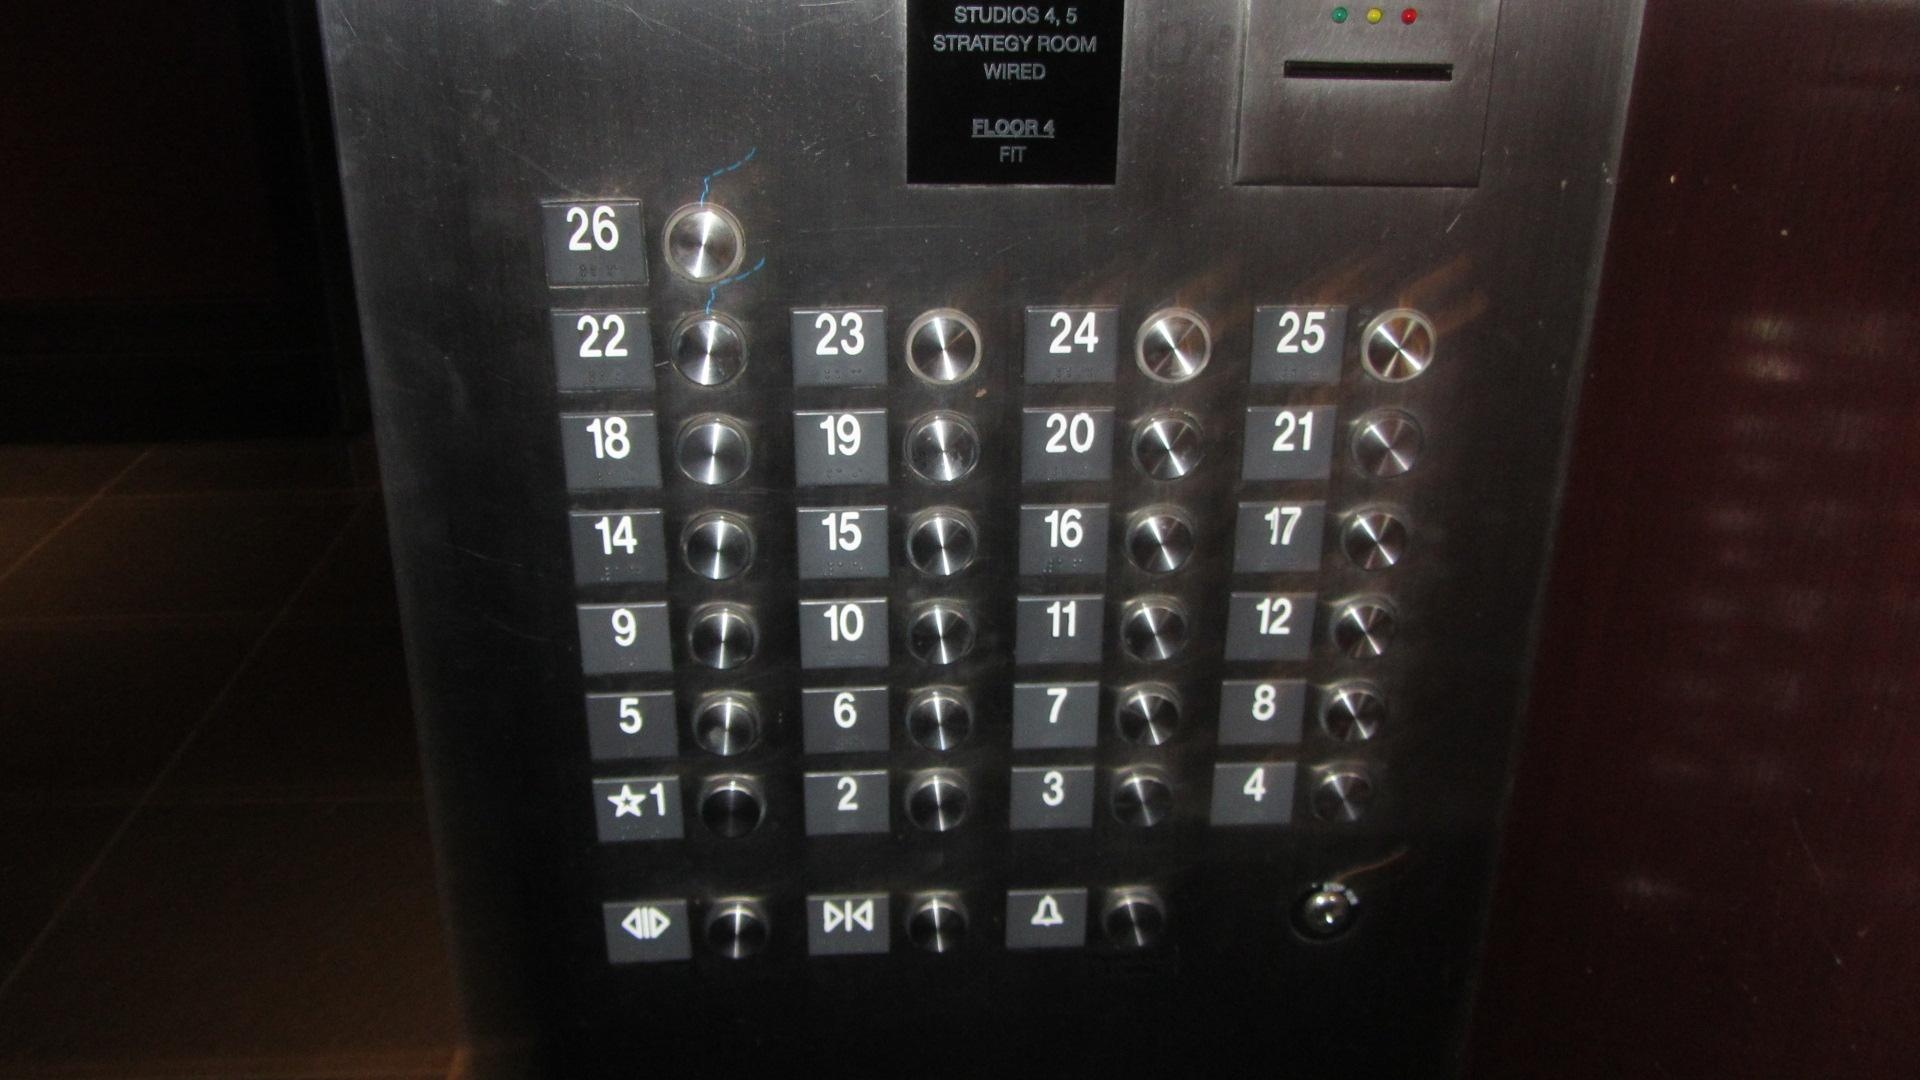10: (794, 595, 894, 674)
11: (1013, 591, 1109, 669)
12: (1222, 587, 1320, 665)
14: (566, 505, 673, 592)
15: (793, 505, 893, 585)
16: (1014, 501, 1114, 579)
17: (1232, 498, 1327, 575)
18: (556, 407, 666, 495)
19: (789, 407, 893, 489)
2: (798, 767, 895, 840)
20: (1015, 404, 1120, 487)
21: (1240, 402, 1337, 485)
22: (545, 306, 659, 396)
23: (789, 305, 895, 392)
24: (1019, 305, 1122, 386)
25: (1247, 301, 1349, 388)
26: (539, 196, 650, 294)
3: (1004, 762, 1098, 835)
4: (1207, 756, 1299, 829)
5: (580, 687, 683, 766)
6: (796, 683, 895, 760)
7: (1009, 679, 1104, 752)
8: (1215, 673, 1309, 750)
9: (574, 599, 676, 680)
alarm: (1002, 884, 1091, 953)
close: (802, 889, 895, 960)
empty: (655, 196, 750, 287), (669, 309, 752, 392), (671, 411, 758, 491), (1358, 305, 1440, 385), (902, 307, 985, 386), (1346, 405, 1427, 485), (1127, 407, 1208, 487), (902, 407, 982, 487), (676, 506, 757, 585), (899, 502, 980, 582), (1134, 307, 1215, 385), (682, 597, 762, 675), (1104, 764, 1184, 840), (1124, 502, 1203, 579), (1114, 591, 1193, 666), (1108, 679, 1188, 753), (698, 893, 773, 967), (1307, 757, 1381, 831), (688, 687, 764, 760), (694, 770, 769, 843), (903, 686, 980, 756), (902, 596, 978, 666), (1336, 505, 1414, 574), (1327, 593, 1404, 662), (1317, 678, 1394, 746), (1098, 884, 1170, 953), (902, 890, 972, 959), (901, 769, 973, 833)
keyhole: (1291, 876, 1361, 945)
open: (597, 895, 698, 967)
s1: (589, 773, 688, 847)
